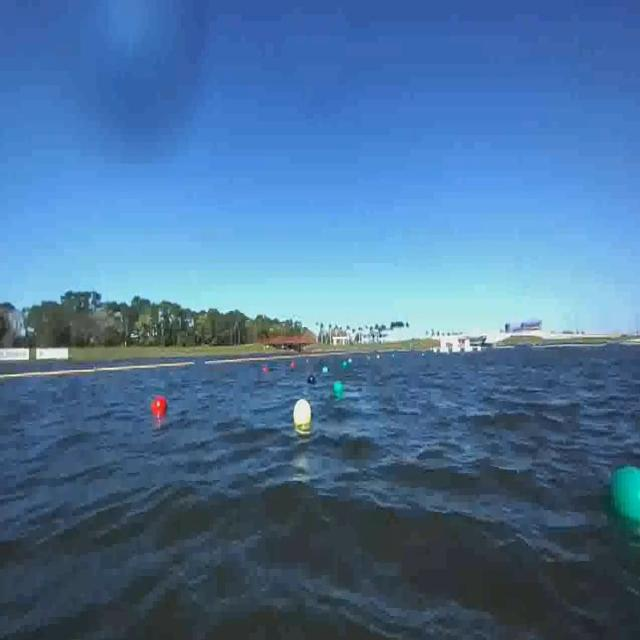black-buoy: (306, 373, 316, 389)
green-buoy: (603, 466, 640, 532), (335, 380, 346, 398)
red-buoy: (154, 396, 169, 414)
yellow-buoy: (293, 400, 311, 430)
